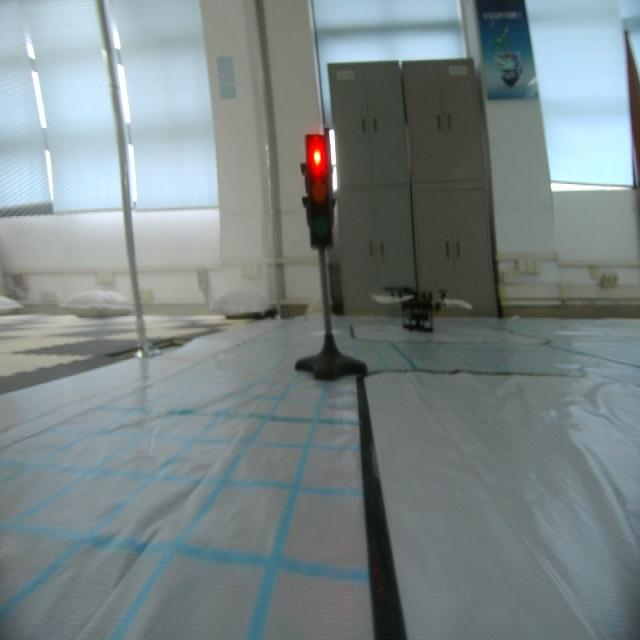red: (302, 127, 338, 249)
